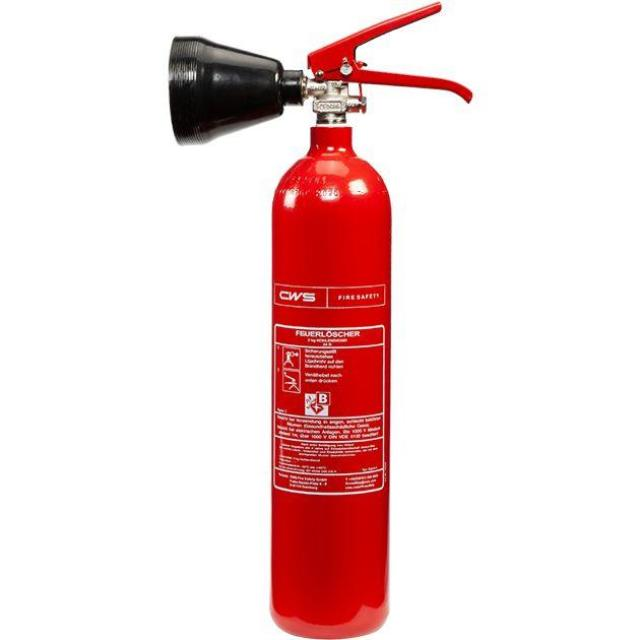fire_extinguisher: (160, 0, 479, 625)
